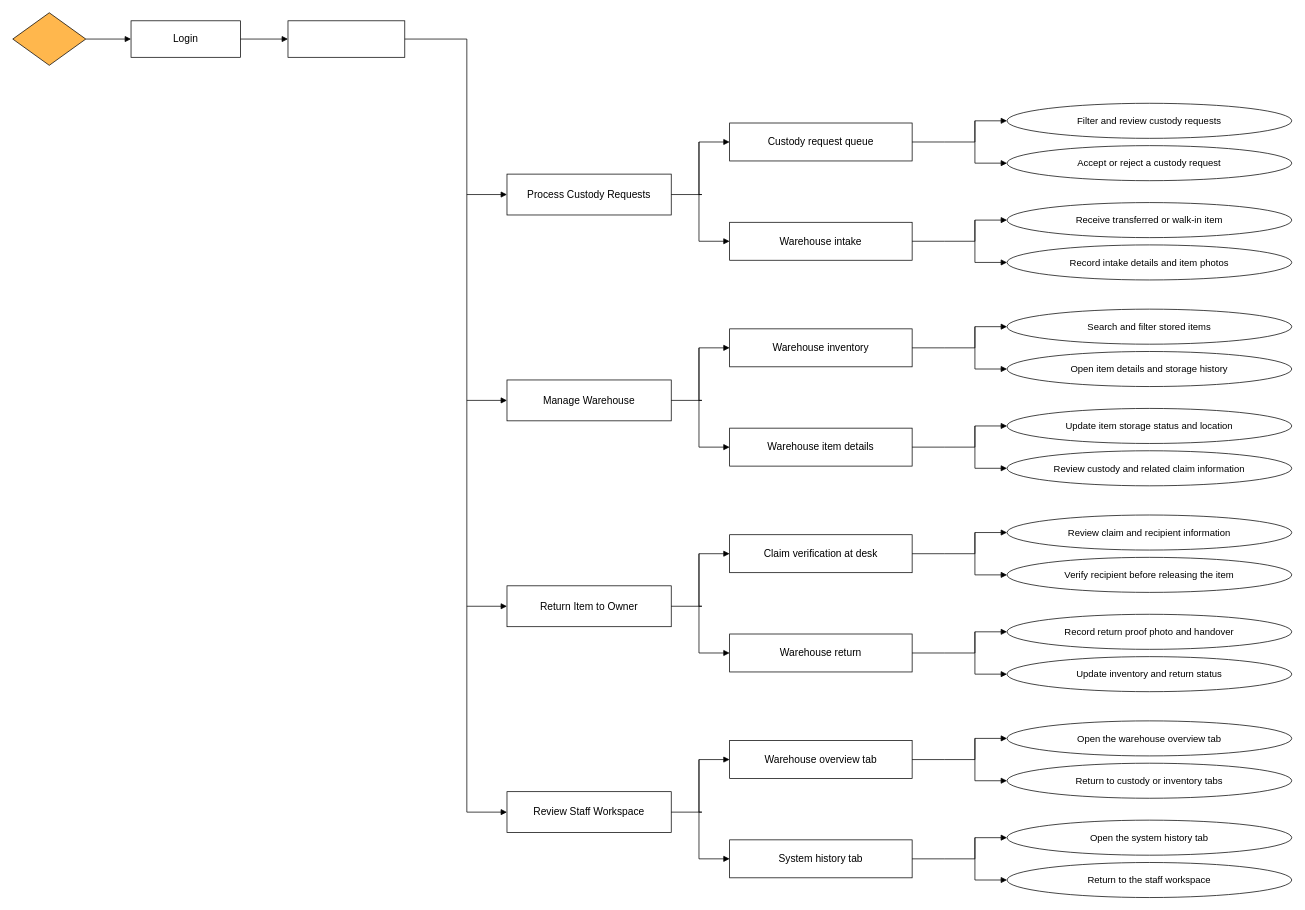
The diagram is 1305 pixels wide and 910 high, and some of its shapes have lost their labels. Each missing label, with the centre of its shape:
"Dashboard" goes at pixel 346 38.
"Staff" goes at pixel 49 38.
